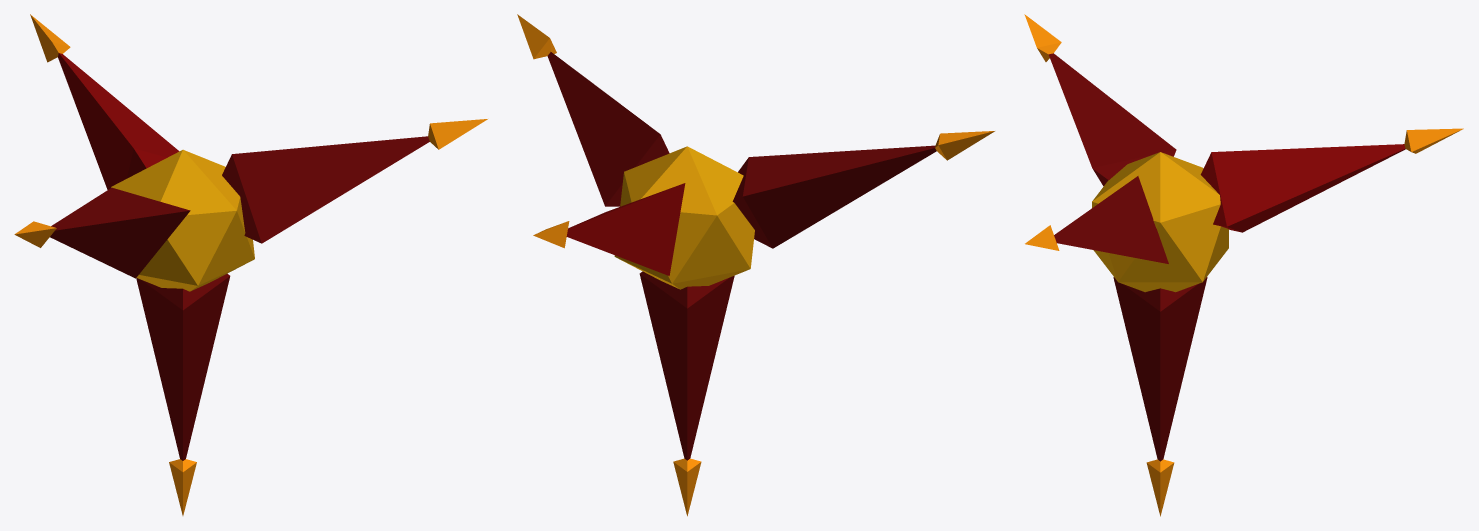
Rendered from mote.glb.
The picture shows the model from 3 angles, left to right: view 1: azimuth 30°, elevation 25°; view 2: azimuth 150°, elevation 25°; view 3: azimuth 270°, elevation 25°; orthographic projection.
Parts seen in each view (by area): view 1: mote; view 2: mote; view 3: mote.
Boxes of the visible parts, x1=… form: mote: x1=14, y1=14, x2=487, y2=515; mote: x1=517, y1=14, x2=994, y2=516; mote: x1=1024, y1=14, x2=1463, y2=516.
Size of the model in its own units: 2.7 by 2.13 by 2.19.
